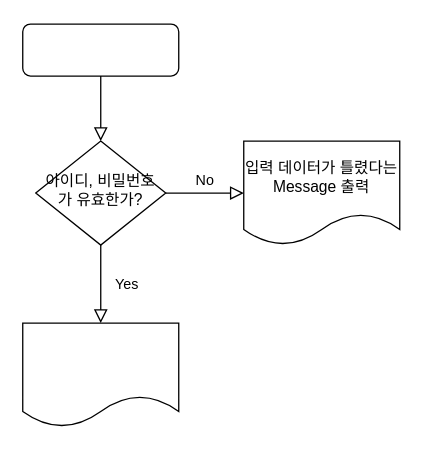
This 422x450 diagram has some shape labels left out. The centre of each missing label's shape, as x and y in pixels:
Main 페이지로 이동한다.: point (100, 374)
사용자가 아이디, 비밀번호를 입력하고 로그인 버튼을 클릭한다.: point (100, 49)
